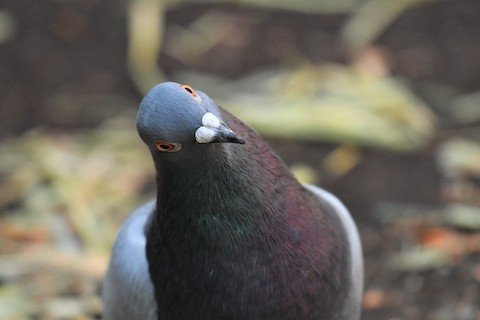pigeon: (84, 76, 378, 307)
